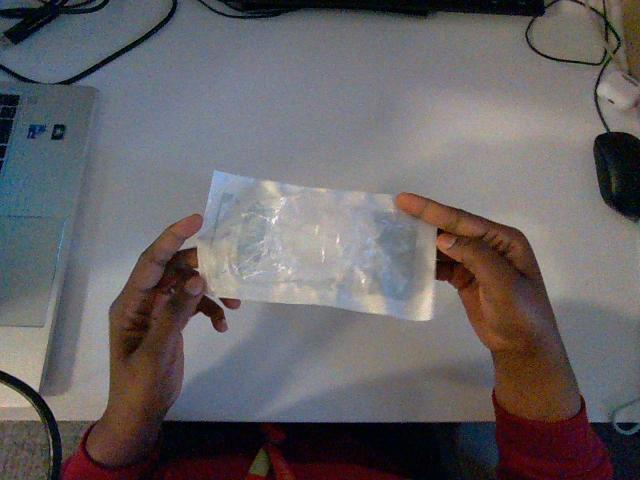gallipot: (197, 171, 435, 319)
